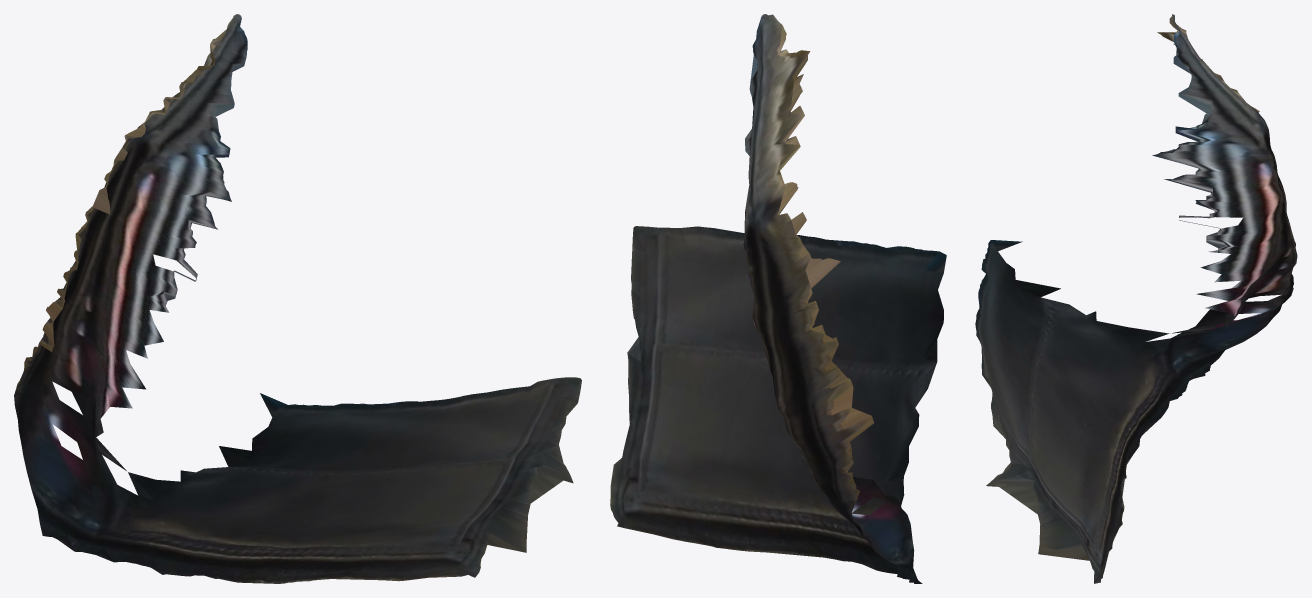
Rendered from observed-surface.glb.
The picture shows the model from 3 angles, left to right: view 1: azimuth 30°, elevation 25°; view 2: azimuth 150°, elevation 25°; view 3: azimuth 270°, elevation 25°; orthographic projection. The views are drawn at different scales.
Parts seen in each view (by area): view 1: geometry_0; view 2: geometry_0; view 3: geometry_0.
Boxes of the visible parts, x1,y1,x2,y2 form: geometry_0: (14,14,581,583); geometry_0: (610,14,946,583); geometry_0: (975,14,1297,583).
Size of the model in its own units: 0.5837 by 0.7824 by 0.4669.
1 material, 1 textured.
